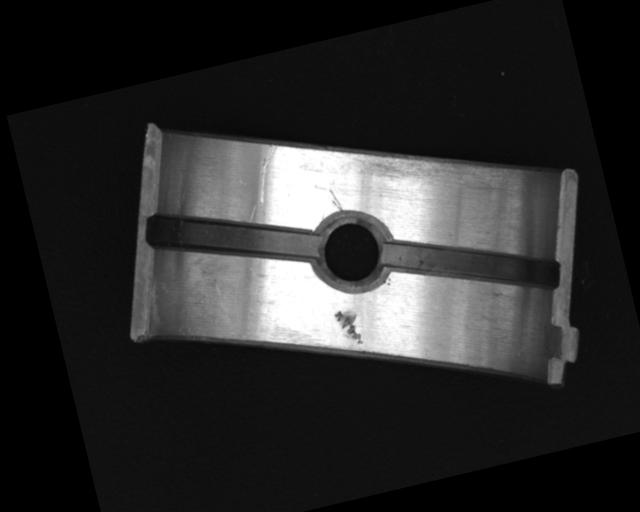bruise: (332, 306, 365, 349)
gap: (382, 206, 561, 324), (143, 179, 322, 293)
hole: (303, 202, 396, 295)
nick: (246, 143, 288, 206), (327, 186, 344, 214)
scratch: (357, 122, 509, 211)
